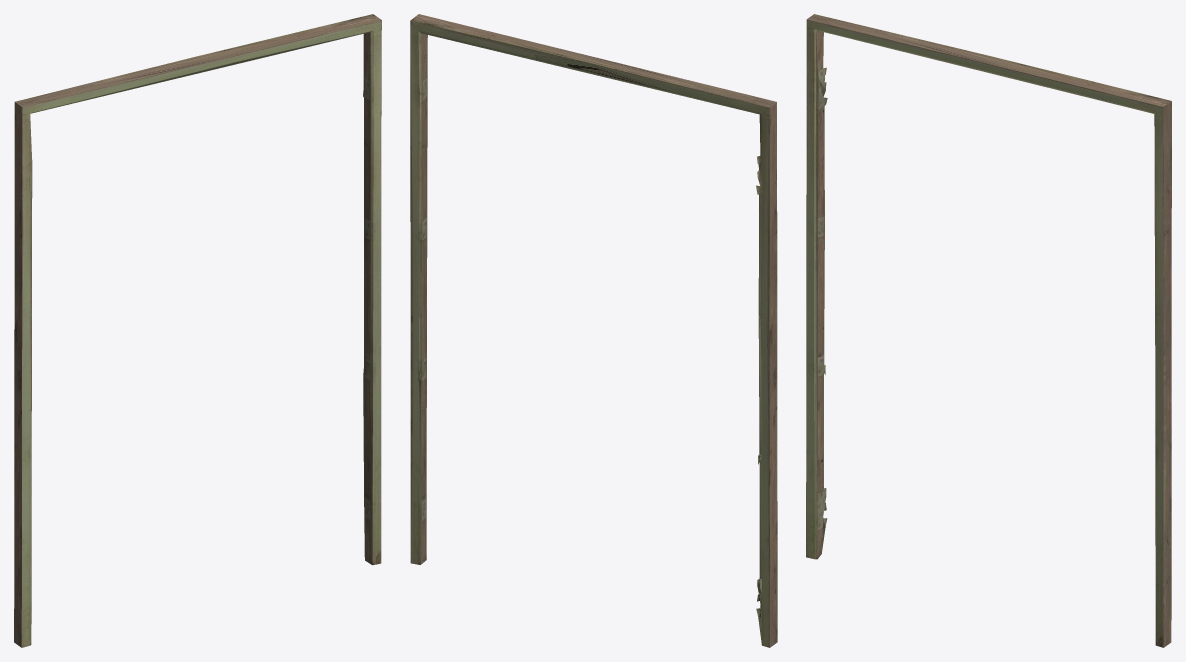
The model's file is door-set-painted-double.lod1.glb.
The picture shows the model from 3 angles, left to right: view 1: azimuth 30°, elevation 25°; view 2: azimuth 150°, elevation 25°; view 3: azimuth 330°, elevation 25°; orthographic projection.
Visible parts, largest first — view 1: door-set-painted-double; view 2: door-set-painted-double; view 3: door-set-painted-double.
Boxes of the visible parts, <box> form: door-set-painted-double: <box>14,14,381,647</box>; door-set-painted-double: <box>410,14,777,647</box>; door-set-painted-double: <box>806,14,1171,647</box>.
Size of the model in its own units: 1.54 by 2.23 by 0.0716.
1 material, 1 textured.
